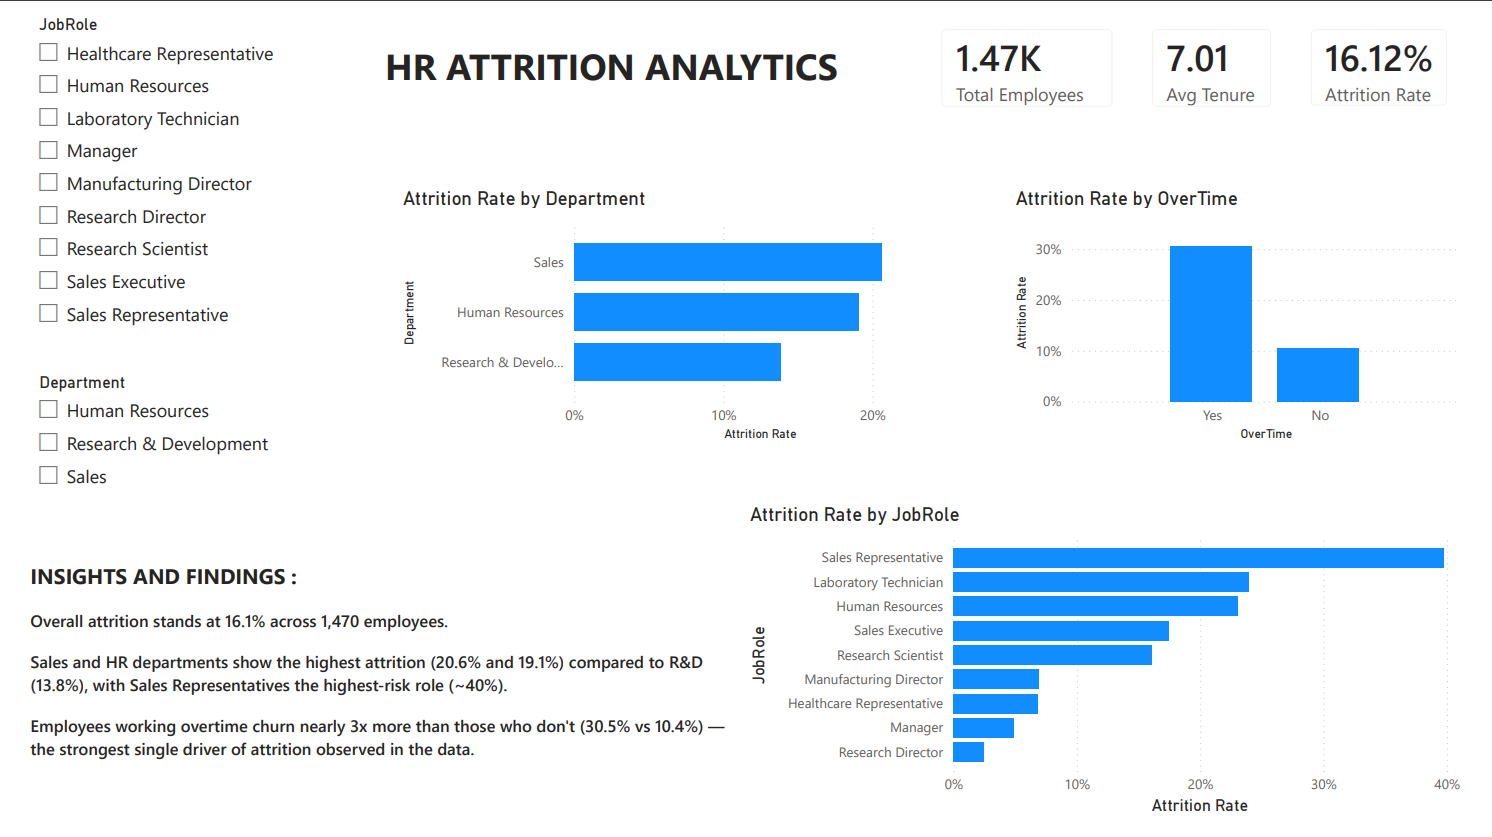

This screenshot's page, from the dashboard's own definition file:
{"tool":"powerbi","page":{"name":"Page 1","canvas":[1280,720],"ordinal":0},"visuals":[{"type":"cardVisual","fields":{"Data":["Employees.Attrition Rate"]},"box":[1124.5,0,155.5,102],"z":0},{"type":"cardVisual","fields":{"Data":["Employees.Total Employees"]},"box":[797.4,0,186.6,103.2],"z":1000},{"type":"cardVisual","fields":{"Data":["Employees.Avg Tenure"]},"box":[984,0,140.6,103.2],"z":2000},{"type":"clusteredBarChart","fields":{"Category":["Employees.Department"],"Y":["Employees.Attrition Rate"]},"box":[330.9,156.7,505,231.4],"z":3000},{"type":"clusteredBarChart","fields":{"Category":["Employees.JobRole"],"Y":["Employees.Attrition Rate"]},"box":[639.4,437.9,640.6,282.4],"z":4000},{"type":"clusteredColumnChart","fields":{"Category":["Employees.OverTime"],"Y":["Employees.Attrition Rate"]},"box":[874.5,156.7,405.5,231.4],"z":5000},{"type":"textbox","box":[314.7,22.4,426.7,57.2],"z":6003},{"type":"slicer","fields":{"Values":["Employees.JobRole"]},"box":[0,0,230.1,294.8],"z":6004},{"type":"slicer","fields":{"Values":["Employees.Department"]},"box":[0,318.5,230.1,119.4],"z":6005},{"type":"textbox","box":[0,485.1,629.4,235.1],"z":6006}]}

Visuals, with their boxes in screenshot pixels (x1, y1, x2, y2), scaled from the page's 1280x720 canvas onto the 1492x837 screenshot:
cardVisual - Employees.Attrition Rate: bbox(1311, 0, 1491, 119)
cardVisual - Employees.Total Employees: bbox(929, 0, 1147, 120)
cardVisual - Employees.Avg Tenure: bbox(1147, 0, 1311, 120)
clusteredBarChart - Employees.Department x Employees.Attrition Rate: bbox(386, 182, 974, 451)
clusteredBarChart - Employees.JobRole x Employees.Attrition Rate: bbox(745, 509, 1491, 836)
clusteredColumnChart - Employees.OverTime x Employees.Attrition Rate: bbox(1019, 182, 1491, 451)
textbox: bbox(367, 26, 864, 93)
slicer - Employees.JobRole: bbox(0, 0, 268, 343)
slicer - Employees.Department: bbox(0, 370, 268, 509)
textbox: bbox(0, 564, 734, 836)
